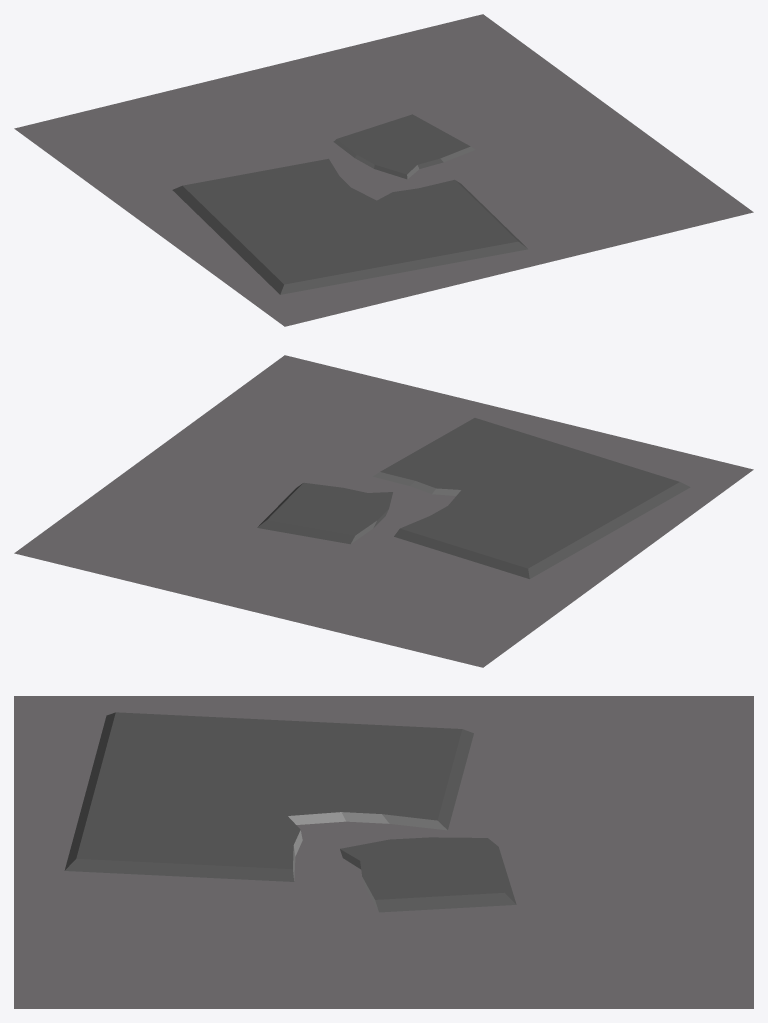
File: Floor_5.fbx
3 renders of one model, top to bottom at view 1: azimuth 30°, elevation 25°; view 2: azimuth 150°, elevation 25°; view 3: azimuth 270°, elevation 25°, orthographic. The views are drawn at different scales.
Visible parts, largest first — view 1: Floor_5; view 2: Floor_5; view 3: Floor_5.
Boxes of the visible parts, x1=… form: Floor_5: x1=14, y1=14, x2=753, y2=326; Floor_5: x1=14, y1=355, x2=753, y2=667; Floor_5: x1=14, y1=696, x2=753, y2=1008.
Size of the model in its own units: 200 by 2.45 by 200.
